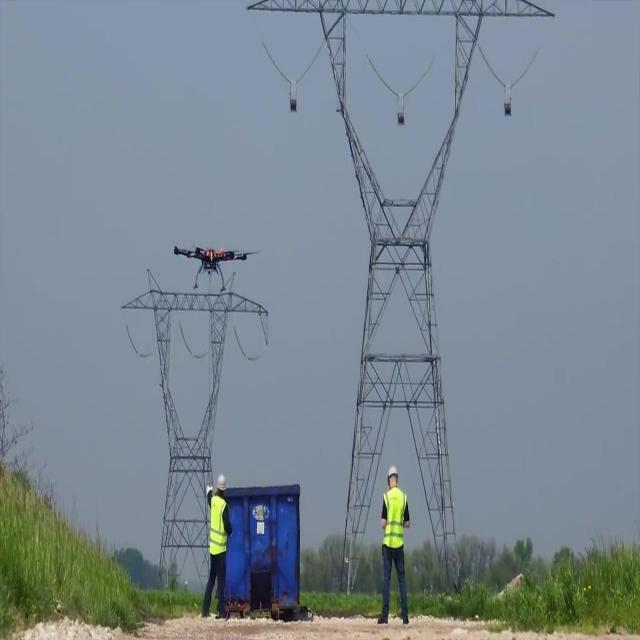drone: (174, 243, 258, 294)
